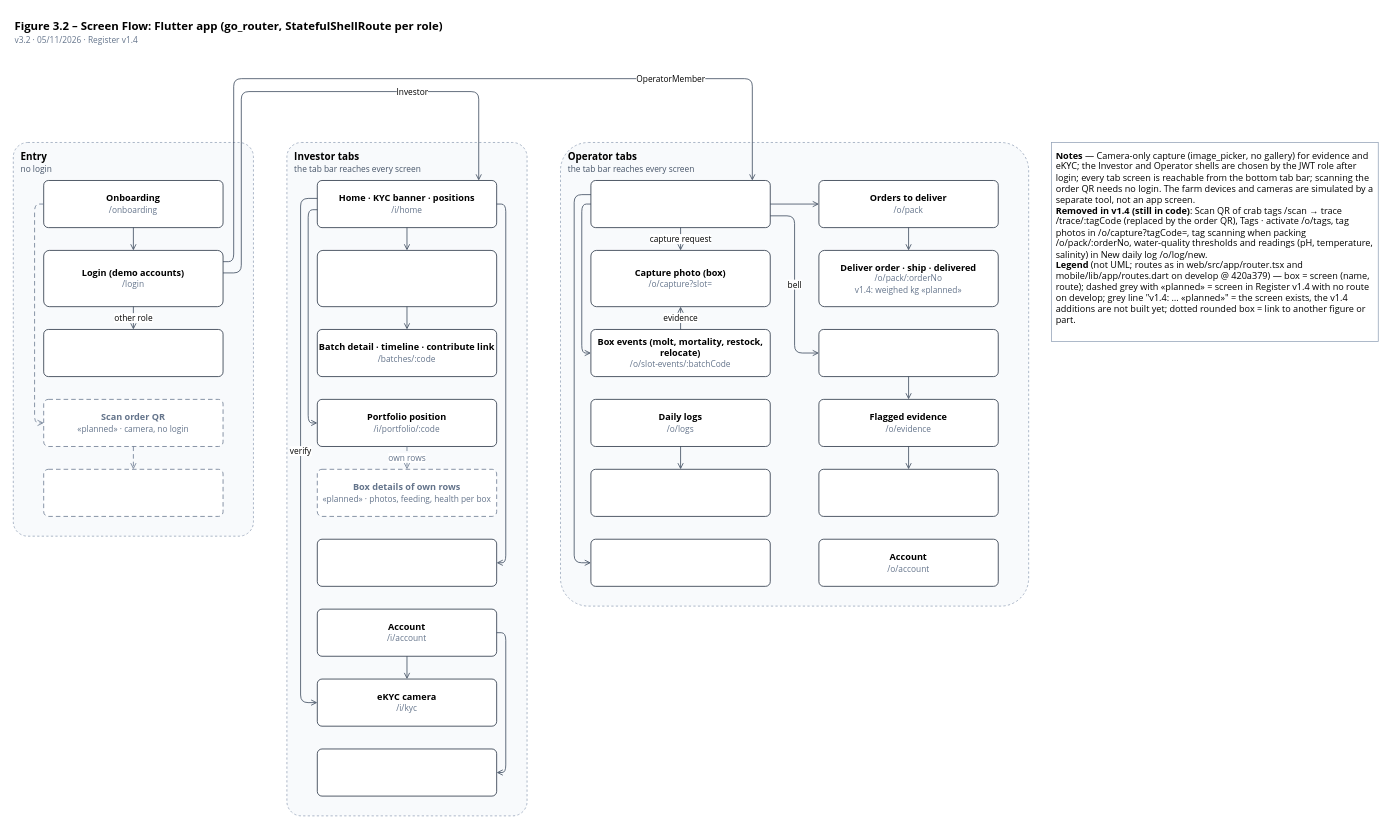
This 1392x829 diagram has some shape labels left out. Here are the shapes that lost their labels. From the top down, the centre of each, then its label:
At (x=680, y=204): "Today · capture requests · active batches /o/today".
At (x=407, y=278): "Explore batches /i/batches".
At (x=133, y=353): "Unsupported role /unsupported".
At (x=908, y=353): "Alerts · acknowledge /o/alerts".
At (x=133, y=492): "Order trace result «planned» · farm, Batch, harvest record".
At (x=680, y=492): "New daily log /o/log/new?batch=".
At (x=908, y=492): "Evidence explanation /o/evidence/:id".
At (x=407, y=562): "Notifications /i/notifications".
At (x=680, y=562): "Harvest session · record per box /o/harvest/:batchCode".
At (x=407, y=772): "Payout account /account/payout-account".
